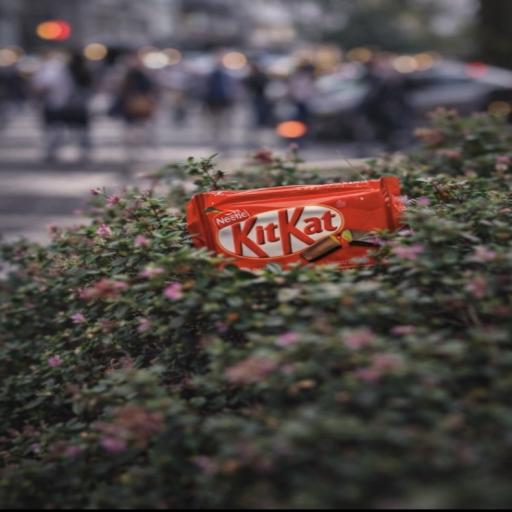kitkat: (135, 136, 458, 322)
